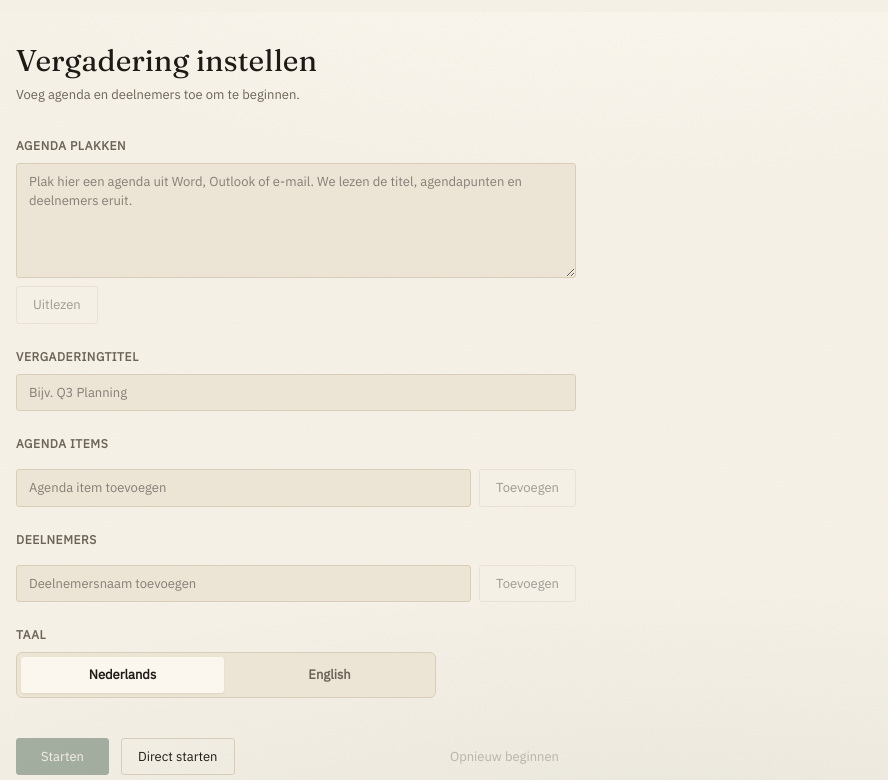
Scenario: DraftScreen › clears all entered data when the reset button is clicked
In the field labelled "Vergaderingtitel": (296, 392) [16,374,576,411], type "Mijn overleg"
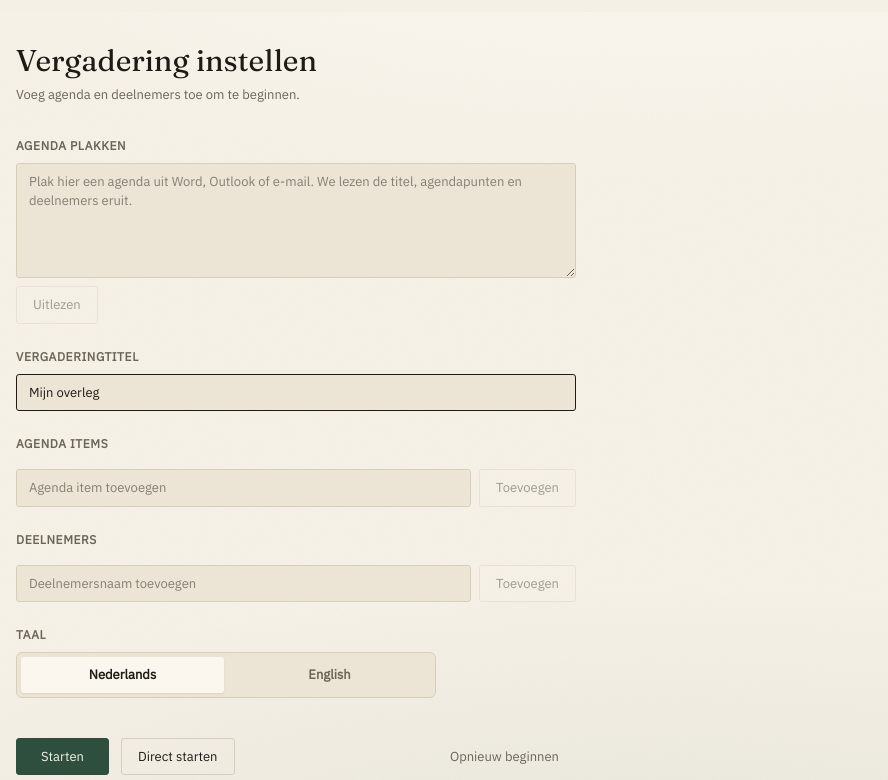
In the field labelled "Agenda item toevoegen": (244, 488) [16,469,471,506], type "Roadmap"
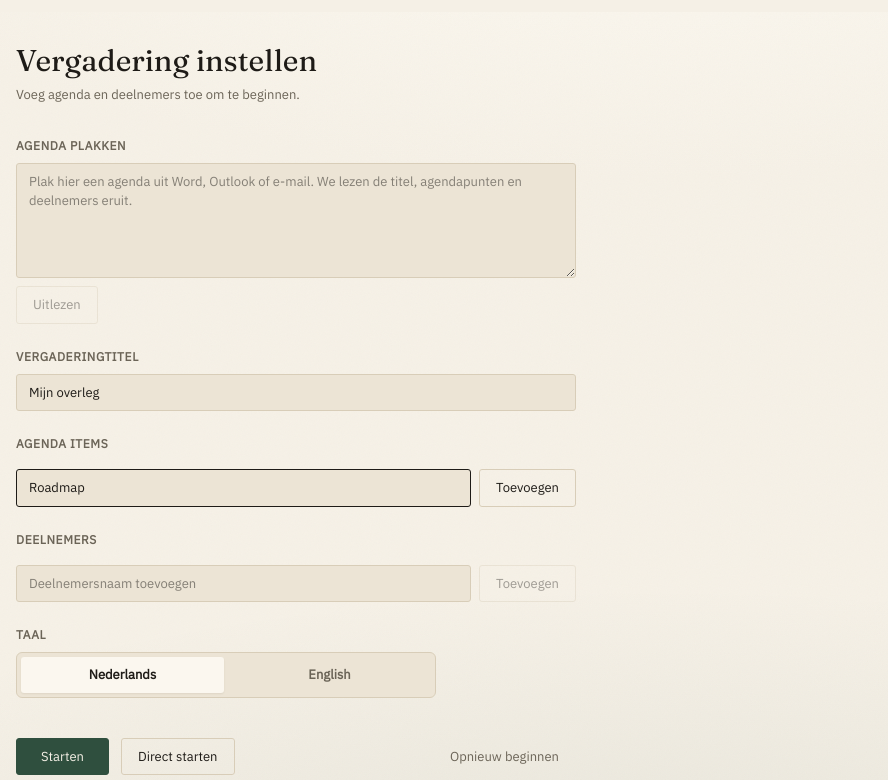
Press Enter
(page scrolled)
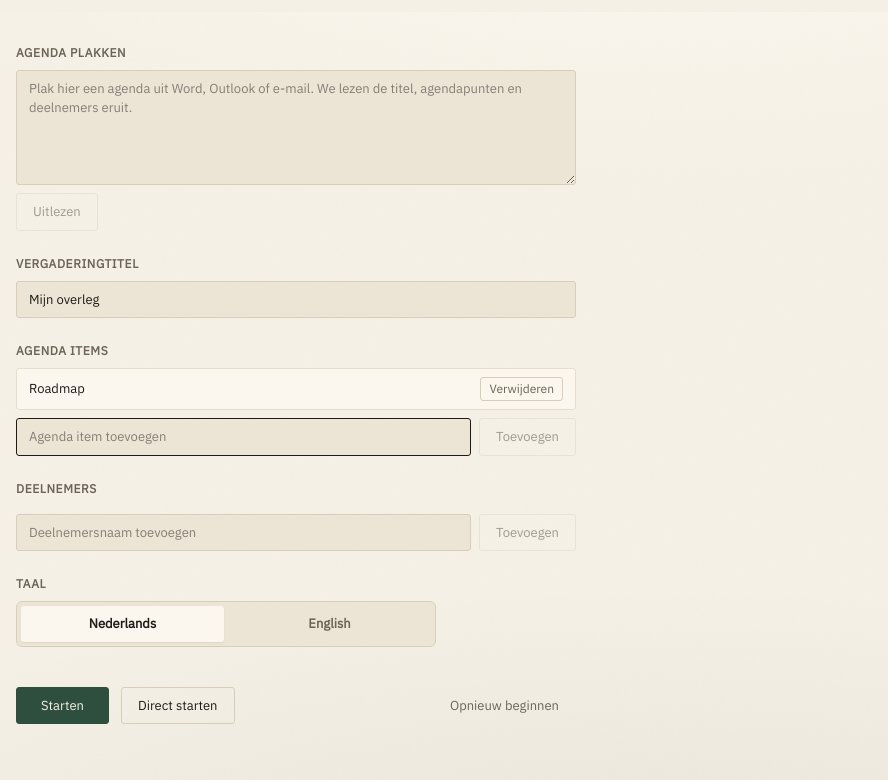
expect the text "Roadmap" is shown: met, box [29,380,85,397]
Click the button "Opnieuw beginnen": (504, 705) [433,686,576,724]
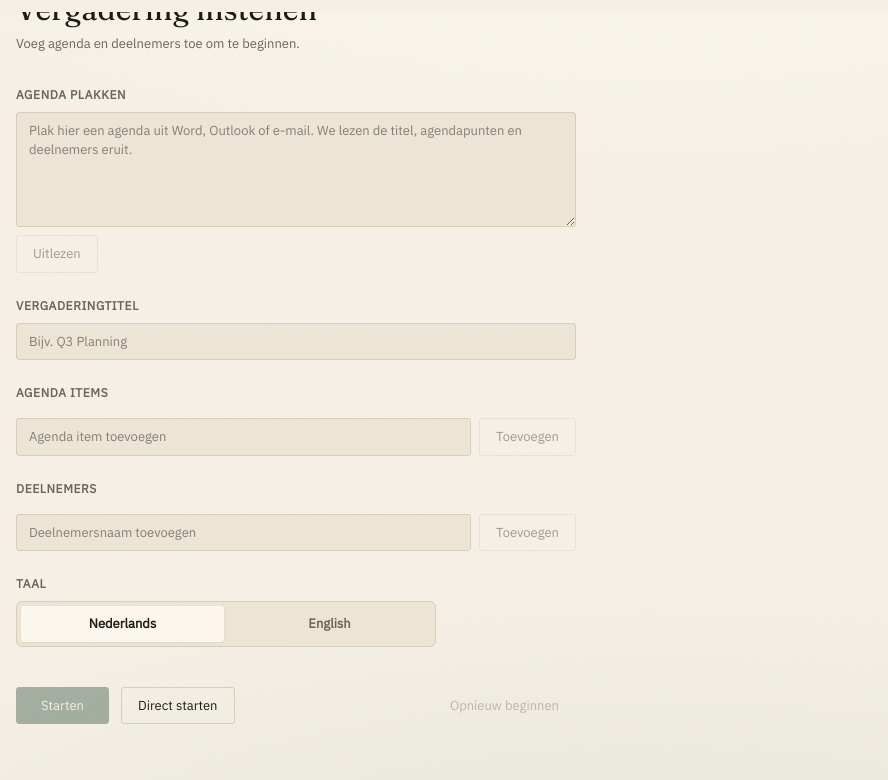
expect the field labelled "Vergaderingtitel" is empty: met, box [16,322,576,360]
expect the text "Roadmap" is gone: met
